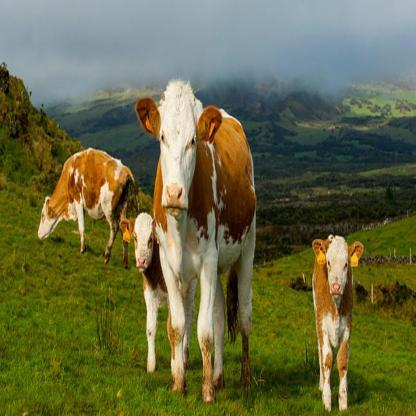cow: (137, 80, 257, 403), (38, 148, 136, 261), (313, 235, 364, 412), (119, 214, 166, 374)
